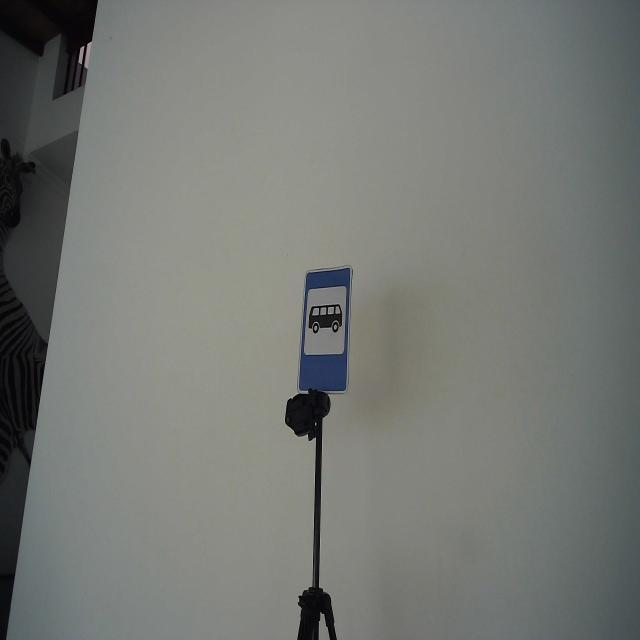bus_stop: (296, 262, 354, 394)
